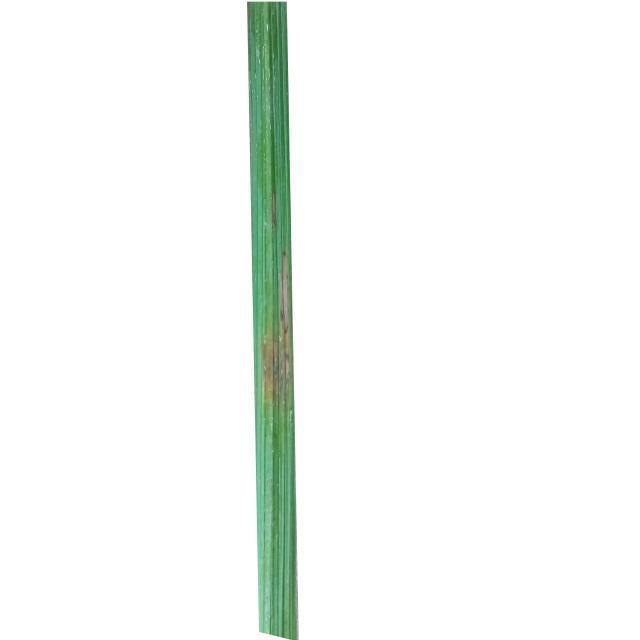Leaf_Blast: (263, 221, 293, 415)
